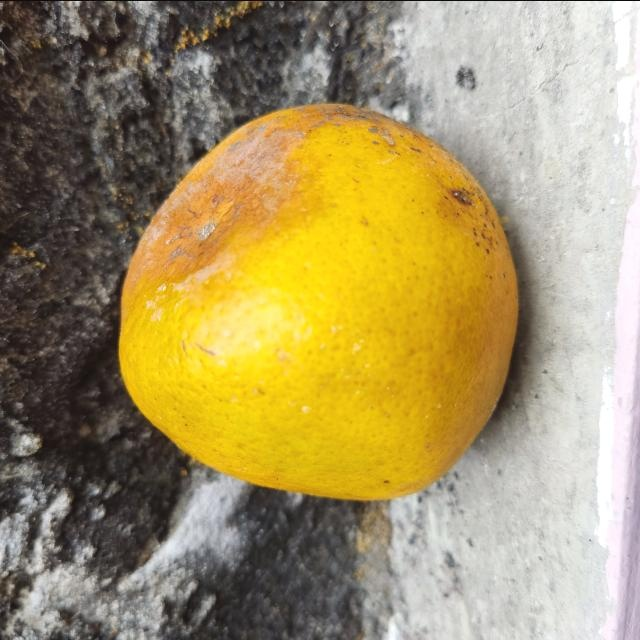agrume: (117, 103, 519, 503)
